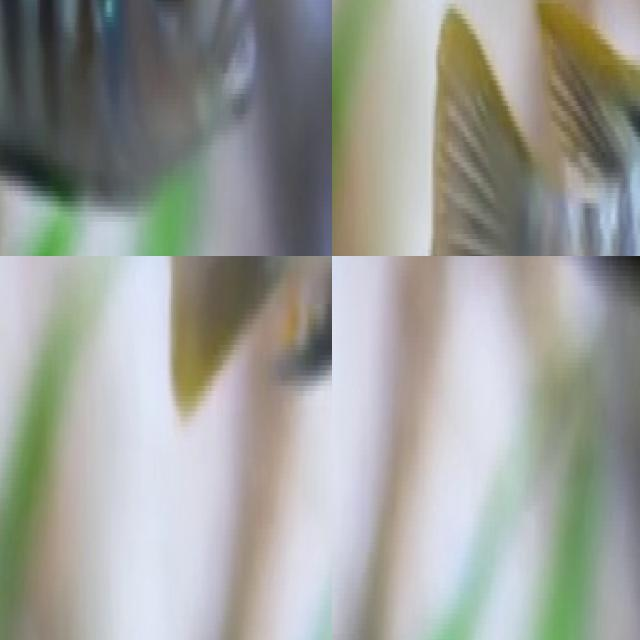fish: (0, 0, 332, 256), (413, 0, 640, 256)
